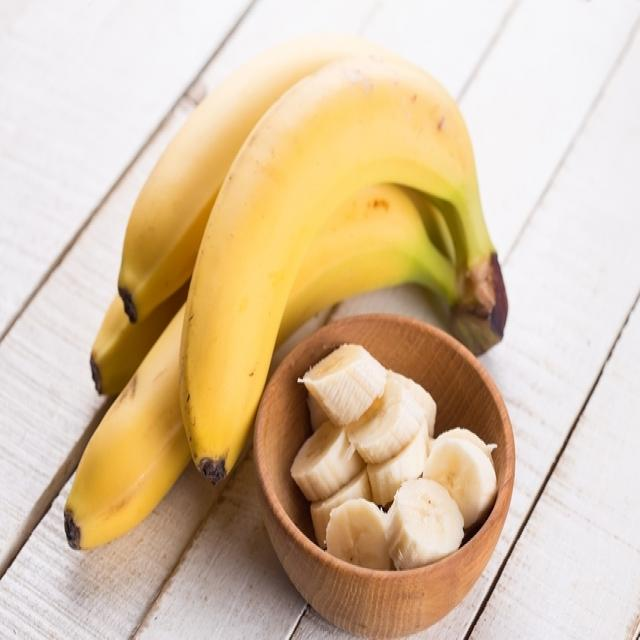banana: (54, 50, 496, 547), (288, 344, 503, 592)
